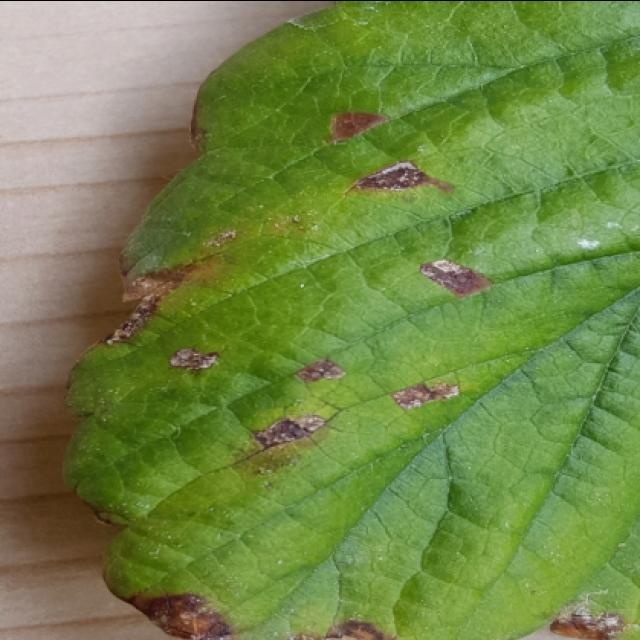Angular Leafspot: (63, 89, 638, 638)
